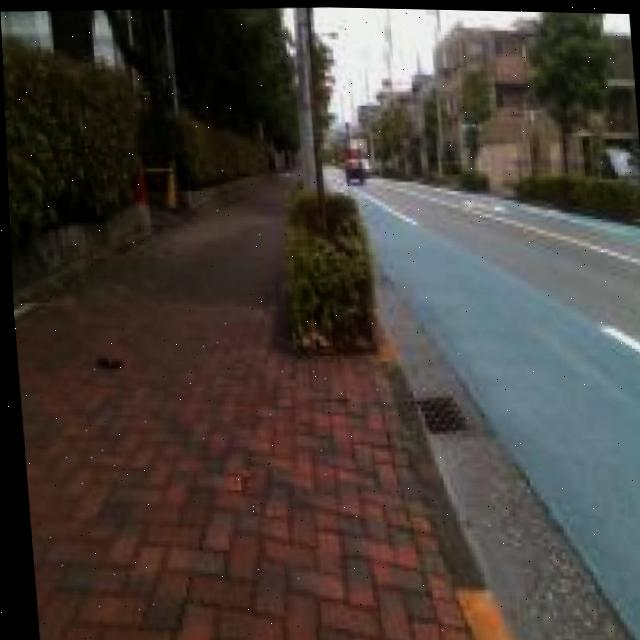Obstacle: (283, 191, 369, 349), (134, 163, 148, 231), (164, 162, 174, 207), (93, 357, 118, 368)
Road: (368, 204, 640, 640), (359, 177, 640, 372)
Sidewalk: (11, 177, 468, 640)
